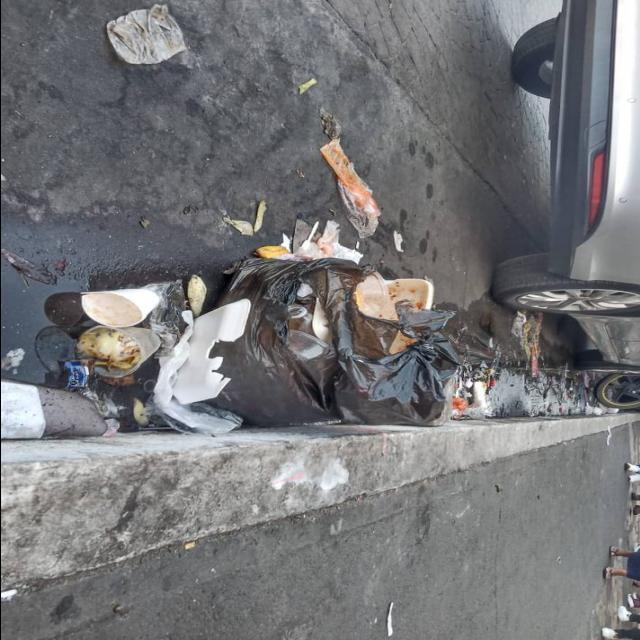Trashbag: (202, 234, 464, 431)
